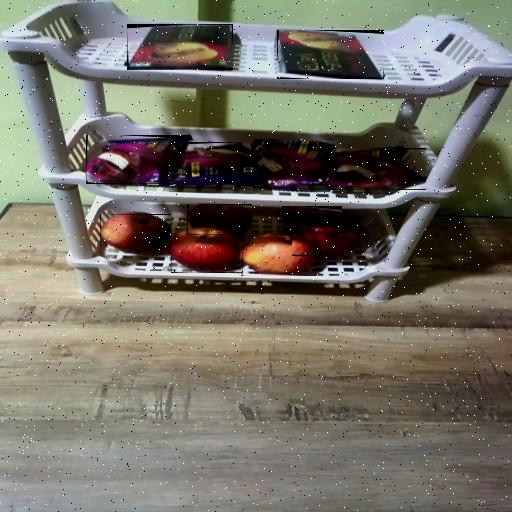Apple: (172, 228, 244, 273), (242, 234, 316, 276), (292, 216, 361, 258), (100, 214, 171, 254), (187, 204, 252, 235), (282, 207, 342, 227)
Choco Fills: (277, 30, 384, 79), (127, 24, 233, 70)
Choco Pie: (87, 138, 189, 184), (164, 142, 262, 185), (328, 148, 426, 190), (254, 140, 334, 190)
